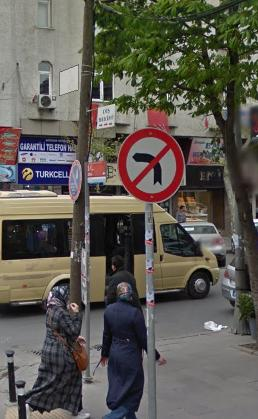leftturnsareforbidden: (122, 129, 185, 204)
